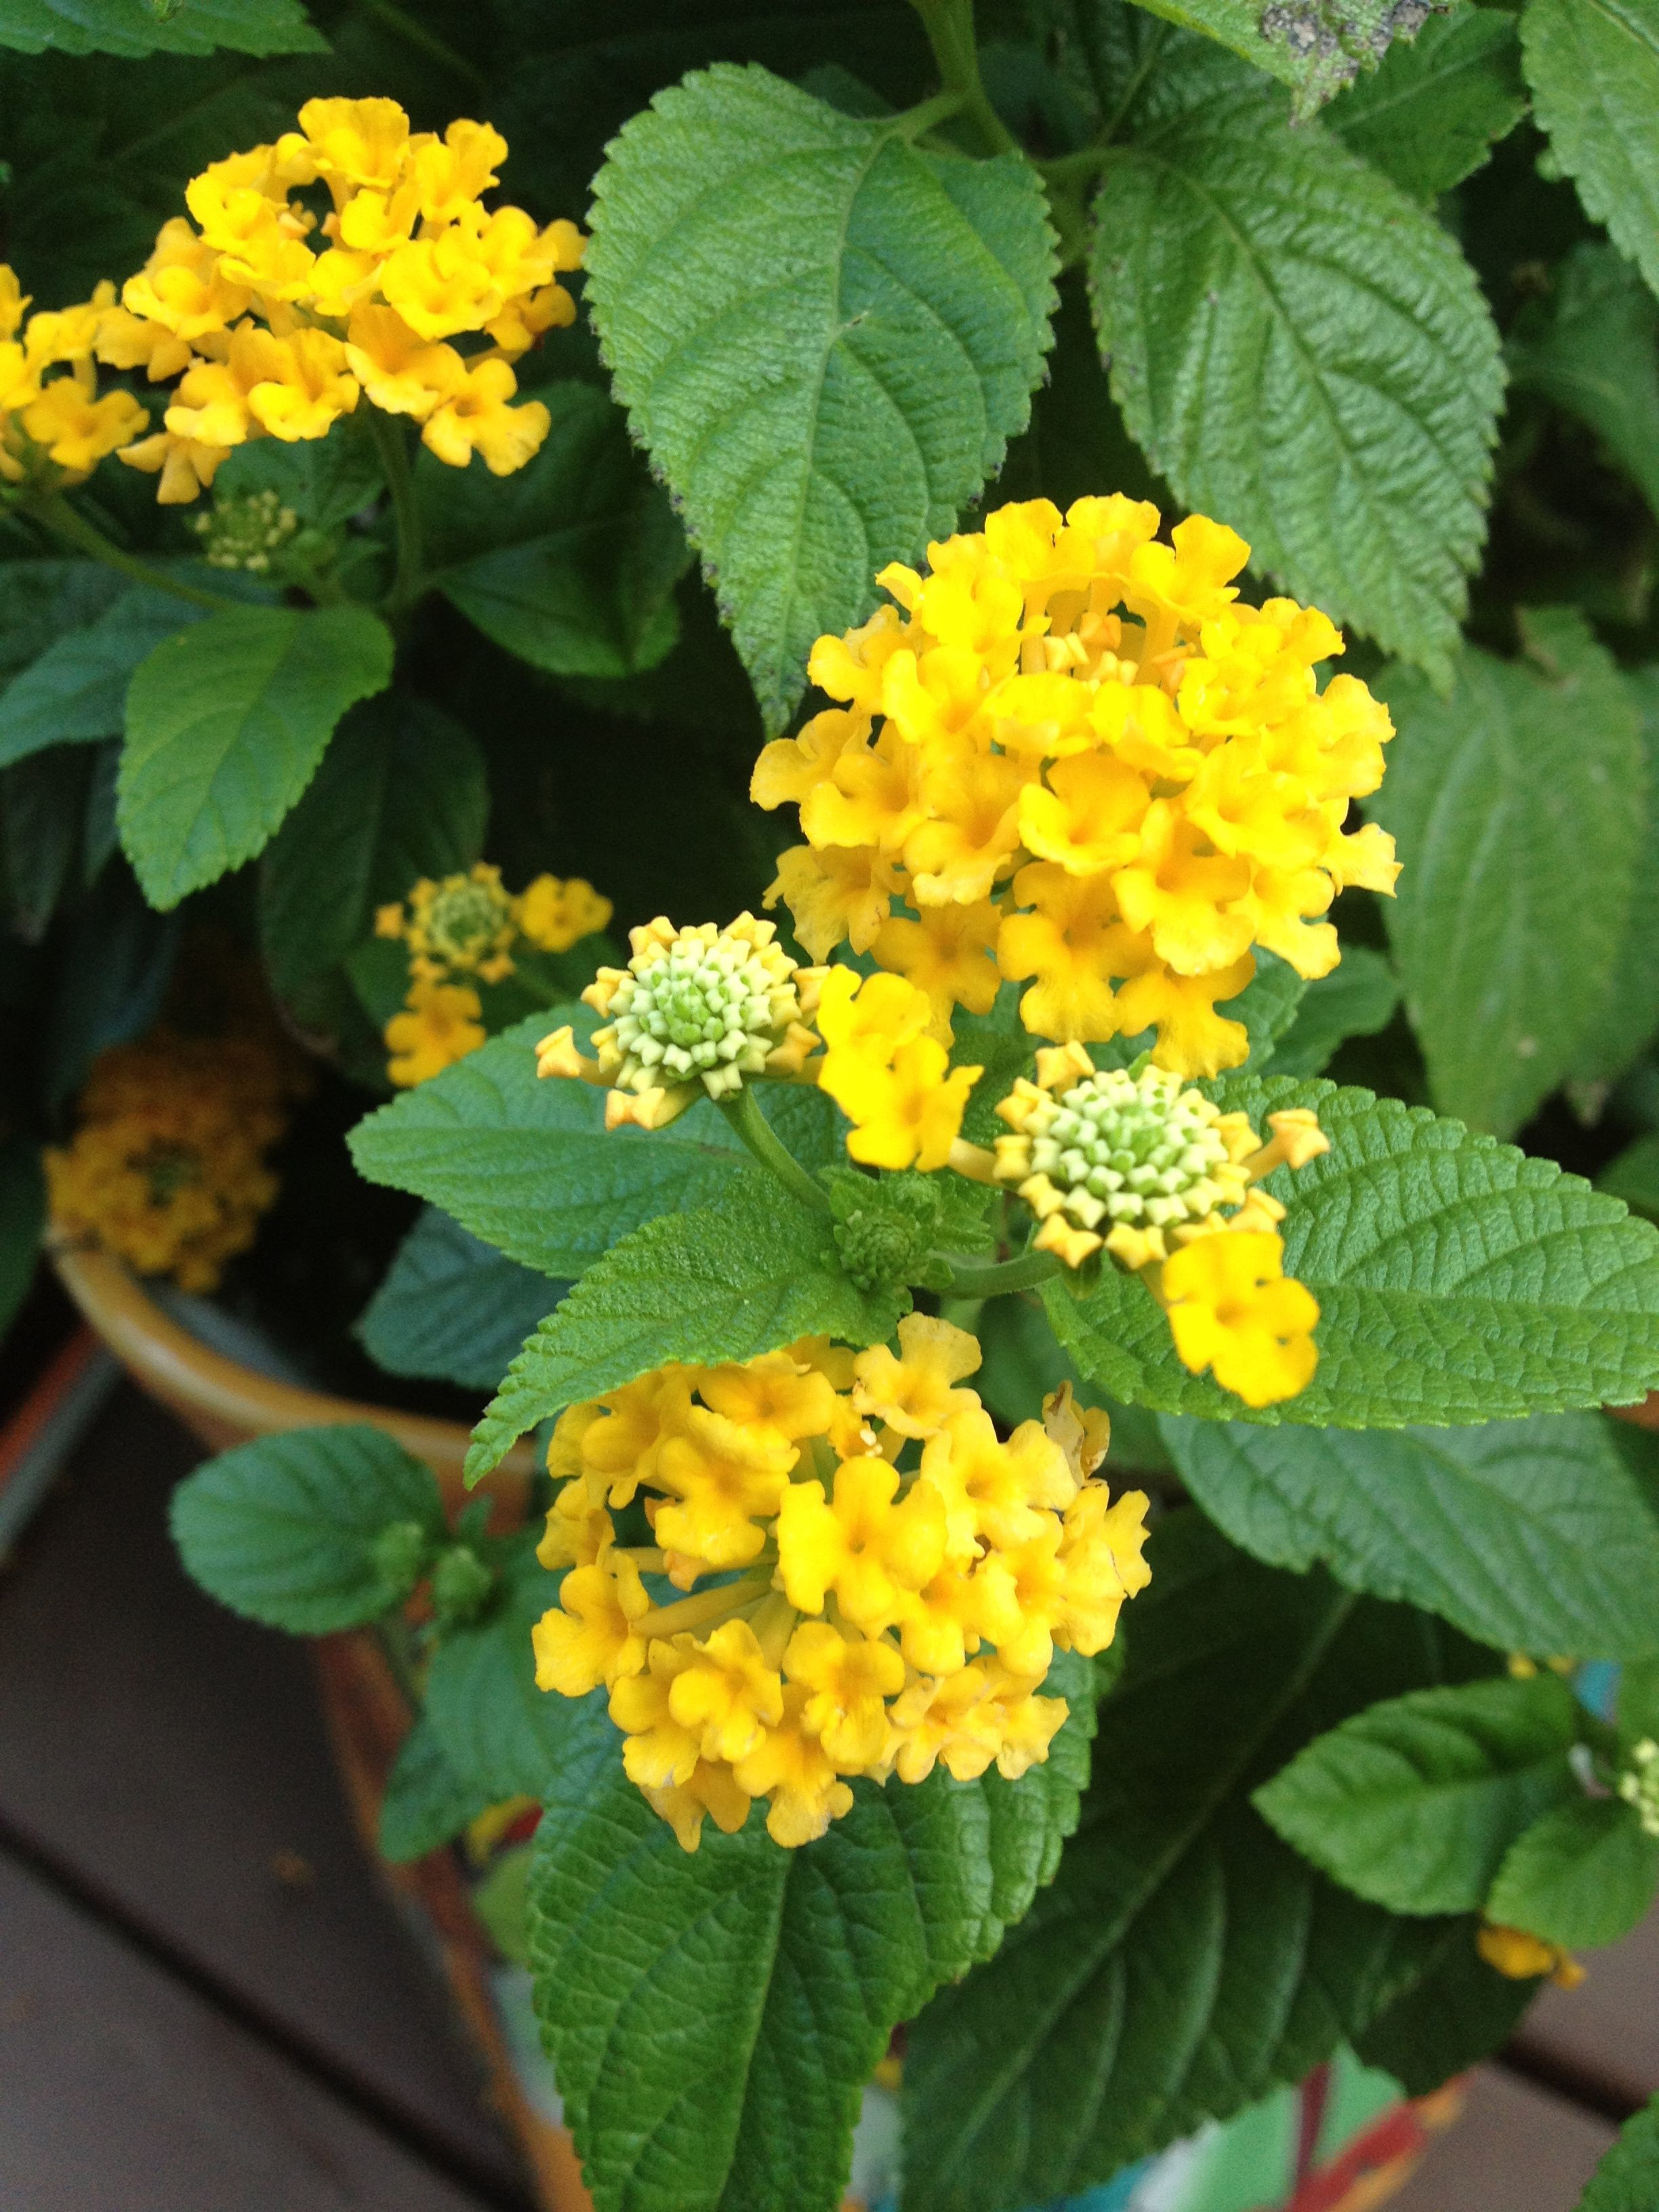lantana: (775, 1456, 945, 1618), (997, 859, 1126, 1038), (1171, 1238, 1312, 1395), (1126, 822, 1253, 975), (655, 1413, 788, 1552), (784, 1620, 896, 1766), (826, 1043, 962, 1162), (1121, 960, 1249, 1082), (929, 1423, 1056, 1543), (767, 843, 894, 961), (1188, 751, 1314, 869), (913, 768, 1026, 899), (882, 648, 1012, 756), (530, 1561, 647, 1681), (673, 1622, 777, 1756), (857, 1315, 978, 1426), (805, 754, 945, 845), (432, 368, 547, 472), (1021, 756, 1133, 862), (164, 338, 274, 444), (352, 307, 455, 418), (981, 1548, 1073, 1670), (1236, 869, 1340, 975), (256, 331, 359, 430), (594, 1388, 687, 1498), (617, 1644, 688, 1785), (1094, 683, 1201, 777), (1140, 517, 1246, 611), (927, 575, 1039, 664), (23, 381, 139, 463), (1176, 657, 1293, 738), (894, 1681, 993, 1771), (382, 246, 491, 327), (383, 989, 479, 1075), (125, 272, 244, 333), (227, 232, 312, 303), (518, 876, 598, 942), (413, 143, 481, 218)
